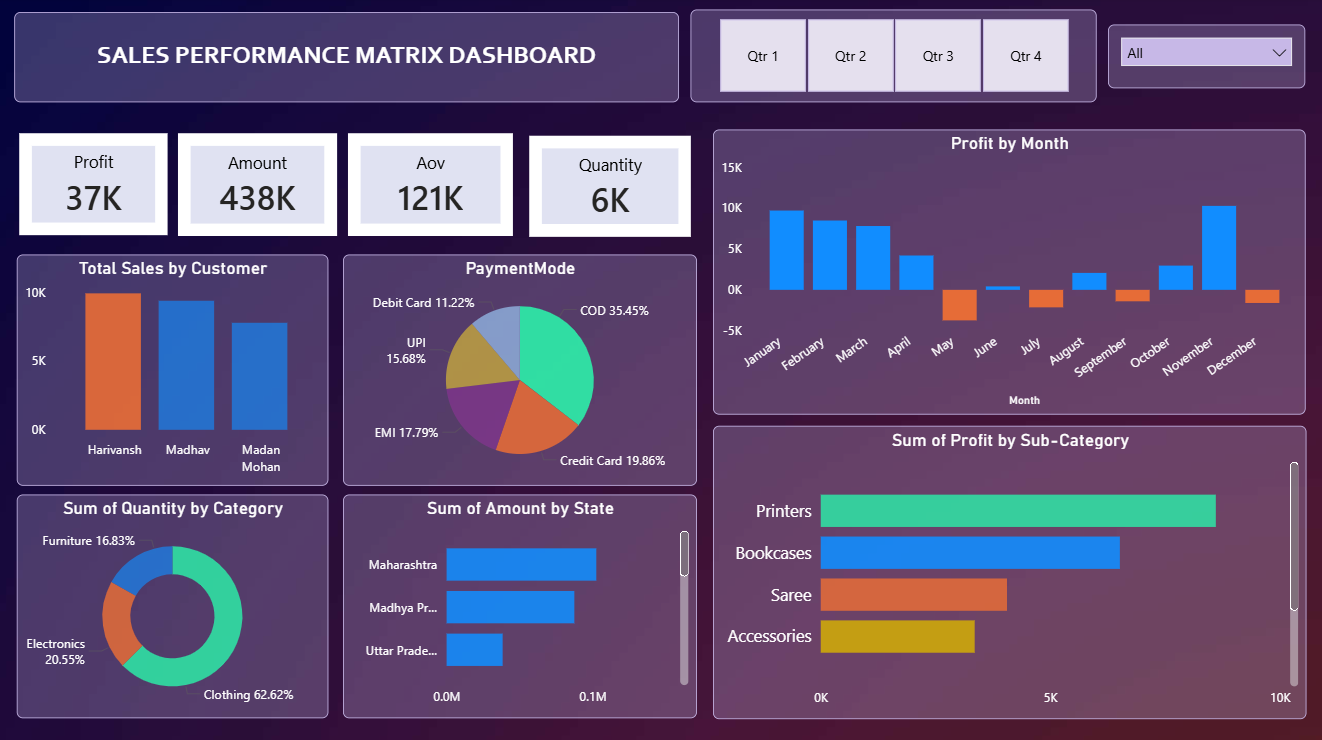

The dashboard page shown, as its layout file describes it:
{"tool":"powerbi","page":{"name":"Sales Dashboard","canvas":[1280,720],"ordinal":0},"visuals":[{"type":"textbox","title":"SALES PERFORMANCE MATRIX DASHBOARD","box":[15.7,14.5,641.8,86.9],"z":0},{"type":"clusteredColumnChart","title":"Profit by Month","fields":{"Category":["orders.Order Date.Variation.Date Hierarchy.Month"],"Y":["Sum(details.Profit)"]},"box":[690.1,127.9,571.9,275.1],"z":1000},{"type":"barChart","fields":{"Y":["Sum(details.Profit)"],"Category":["details.Sub-Category"]},"box":[690.1,413.8,573.1,283.5],"z":2000},{"type":"donutChart","fields":{"Category":["details.Category"],"Y":["Sum(details.Quantity)"]},"box":[18.1,480.2,300.4,216],"z":3000},{"type":"pieChart","title":"PaymentMode","fields":{"Y":["Sum(details.Amount)"],"Category":["details.PaymentMode"]},"box":[333,248.5,341.4,223.2],"z":4000},{"type":"cardVisual","fields":{"Data":["Sum(details.Profit)"]},"box":[15.7,127.3,153.4,108.1],"z":5000},{"type":"cardVisual","fields":{"Data":["Sum(details.Amount)"]},"box":[169.1,127.3,163.9,109.8],"z":6000},{"type":"cardVisual","fields":{"Data":["Sum(details.Quantity)"]},"box":[507.9,129.1,166.5,107.4],"z":7000},{"type":"barChart","fields":{"Category":["orders.State"],"Y":["Sum(details.Amount)"]},"box":[333,480.2,341.4,216],"z":8000},{"type":"columnChart","title":"Total Sales by Customer","fields":{"Category":["orders.CustomerName"],"Y":["Sum(details.Amount)"]},"box":[18.1,248.5,300.4,223.2],"z":9000},{"type":"slicer","fields":{"Values":["orders.Order Date.Variation.Date Hierarchy.Quarter"]},"box":[668.7,12.6,391.7,89.5],"z":10000},{"type":"slicer","fields":{"Values":["orders.State"]},"box":[1071.3,26.5,190.6,61.5],"z":11000},{"type":"cardVisual","fields":{"Data":["Sum(details.Aov)"]},"box":[333,127.3,169.1,109.8],"z":12000}]}

Visuals, with their boxes in screenshot pixels (x1, y1, x2, y2), scaled from the page's 1280x720 canvas onto the 1322x740 screenshot:
"SALES PERFORMANCE MATRIX DASHBOARD" textbox: [16, 15, 679, 104]
"Profit by Month" clusteredColumnChart: [713, 131, 1303, 414]
barChart - Sum(details.Profit) x details.Sub-Category: [713, 425, 1305, 717]
donutChart - details.Category x Sum(details.Quantity): [19, 494, 329, 716]
"PaymentMode" pieChart: [344, 255, 697, 485]
cardVisual - Sum(details.Profit): [16, 131, 175, 242]
cardVisual - Sum(details.Amount): [175, 131, 344, 244]
cardVisual - Sum(details.Quantity): [525, 133, 697, 243]
barChart - orders.State x Sum(details.Amount): [344, 494, 697, 716]
"Total Sales by Customer" columnChart: [19, 255, 329, 485]
slicer - orders.Order Date.Variation.Date Hierarchy.Quarter: [691, 13, 1095, 105]
slicer - orders.State: [1106, 27, 1303, 90]
cardVisual - Sum(details.Aov): [344, 131, 519, 244]
